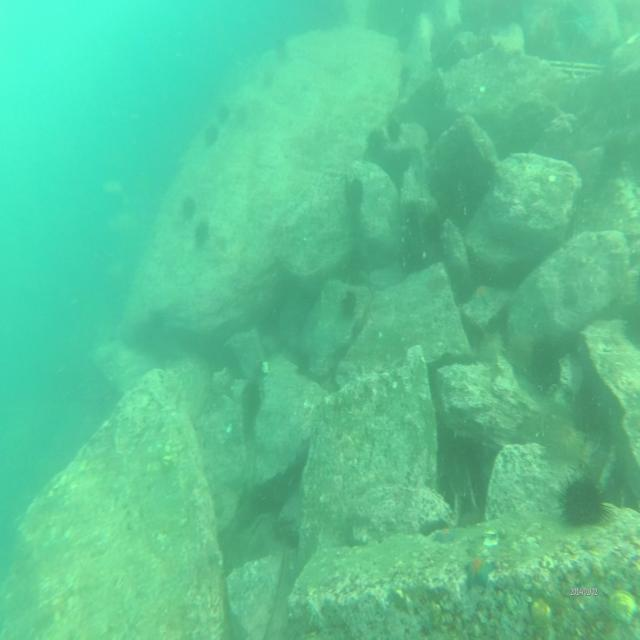echinus: (557, 471, 614, 530), (529, 331, 567, 402), (363, 123, 385, 164), (346, 172, 366, 214), (203, 117, 222, 150), (341, 286, 358, 321), (385, 115, 406, 143), (194, 219, 211, 251), (274, 32, 290, 65), (181, 193, 198, 224), (398, 61, 415, 90), (216, 96, 231, 121)
starfish: (463, 553, 497, 594), (469, 281, 496, 311), (432, 521, 459, 544)
